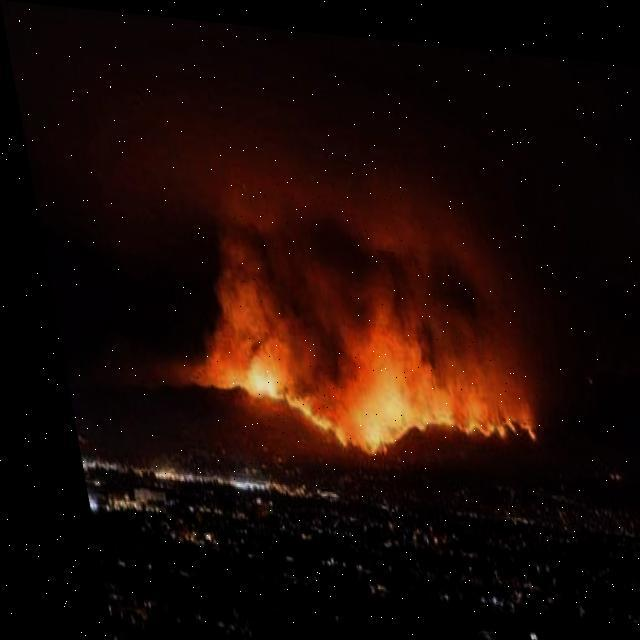Fire: (197, 336, 530, 462)
